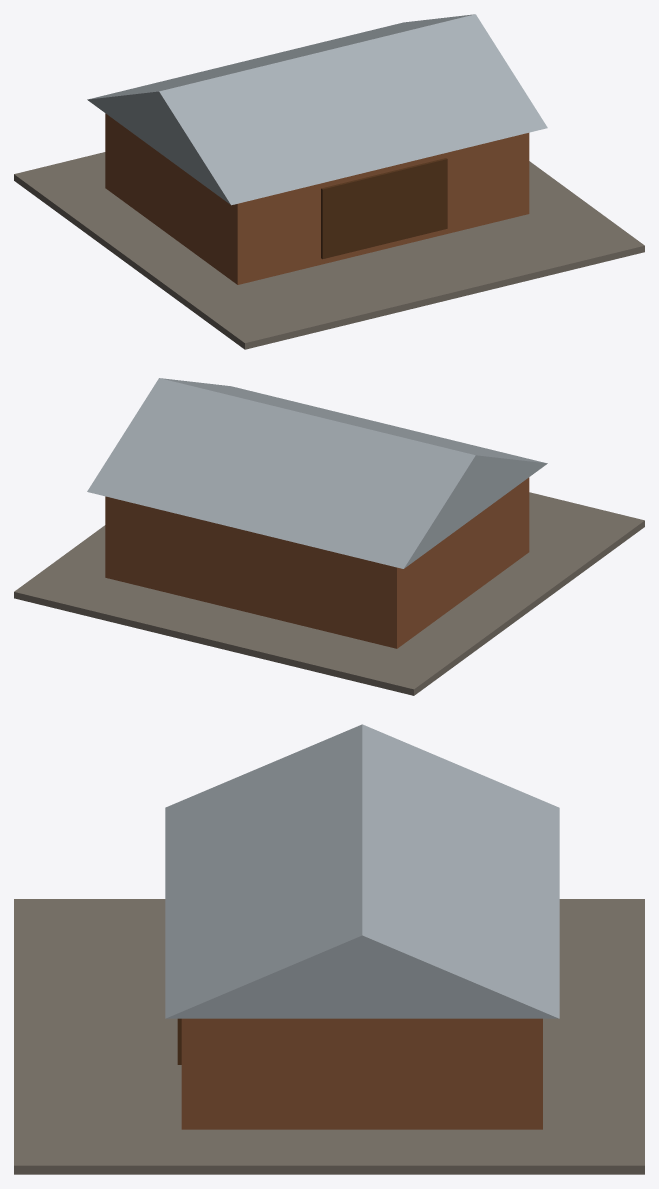
File: zone_I_d1_e2.glb
The picture shows the model from 3 angles, top to bottom: view 1: azimuth 30°, elevation 25°; view 2: azimuth 150°, elevation 25°; view 3: azimuth 270°, elevation 25°; orthographic projection. The views are drawn at different scales.
Visible parts, largest first — view 1: zone_I_d1_e2; view 2: zone_I_d1_e2; view 3: zone_I_d1_e2.
Boxes of the visible parts, <box> form: zone_I_d1_e2: <box>14,14,644,349</box>; zone_I_d1_e2: <box>14,378,644,695</box>; zone_I_d1_e2: <box>14,724,644,1174</box>.
Bounding box in the file's own units: 0.96 × 0.355 × 0.96.
